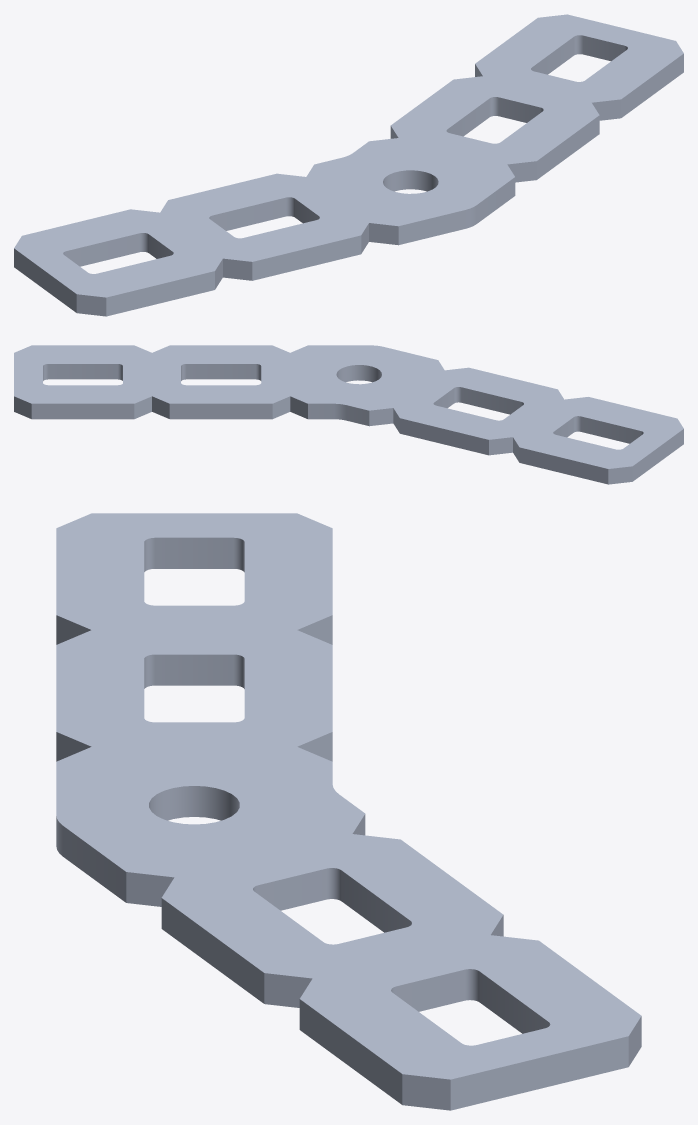
File: 30 Degree Flat Gusset (276-7758-001).glb
3 renders of one model, top to bottom at view 1: azimuth 30°, elevation 25°; view 2: azimuth 150°, elevation 25°; view 3: azimuth 270°, elevation 25°, orthographic. The views are drawn at different scales.
Parts seen in each view (by area): view 1: 276-7758-001 Rev1; view 2: 276-7758-001 Rev1; view 3: 276-7758-001 Rev1.
Boxes of the visible parts, left/top/right/bottom form: 276-7758-001 Rev1: left=14, top=14, right=683, bottom=316; 276-7758-001 Rev1: left=14, top=345, right=683, bottom=484; 276-7758-001 Rev1: left=56, top=513, right=641, bottom=1110.
Size of the model in its own units: 0.0616 by 0.00157 by 0.0269.
